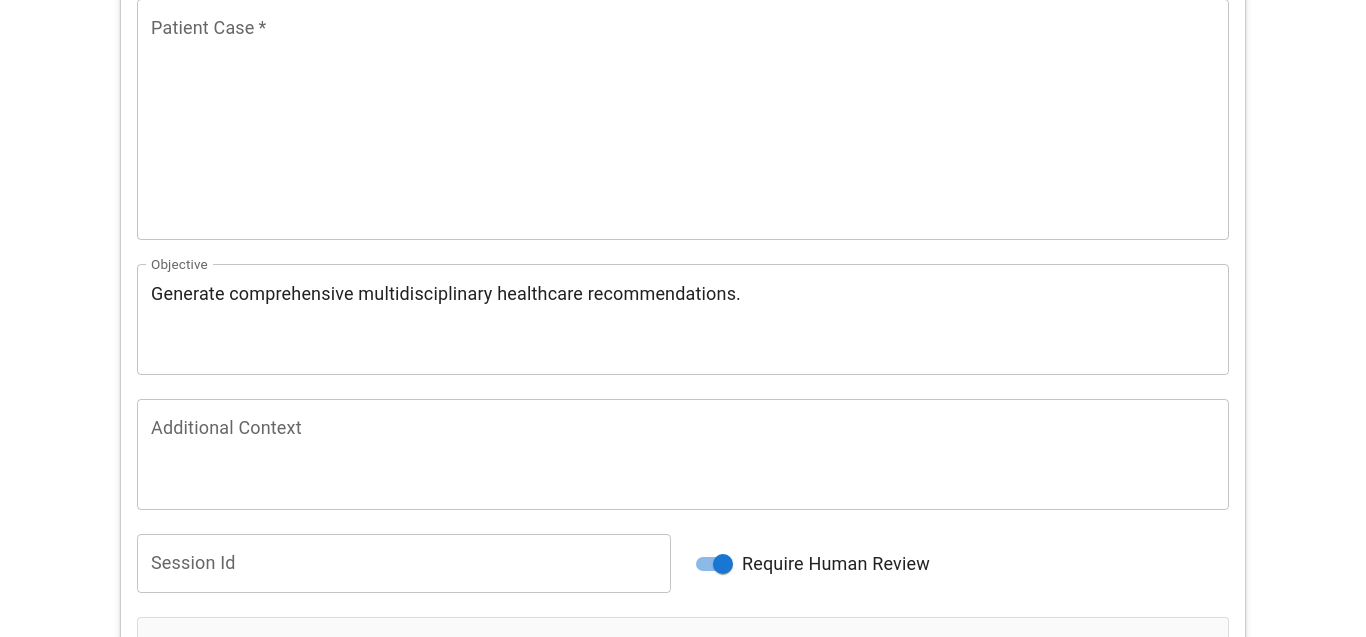
PlatformAnalysisForm › updates request summary
The width and height of the screenshot is (1366, 637).
In the text box labelled "Patient Case *": (683, 120) [151,16,1215,224], type "ABCDE"
(page scrolled)
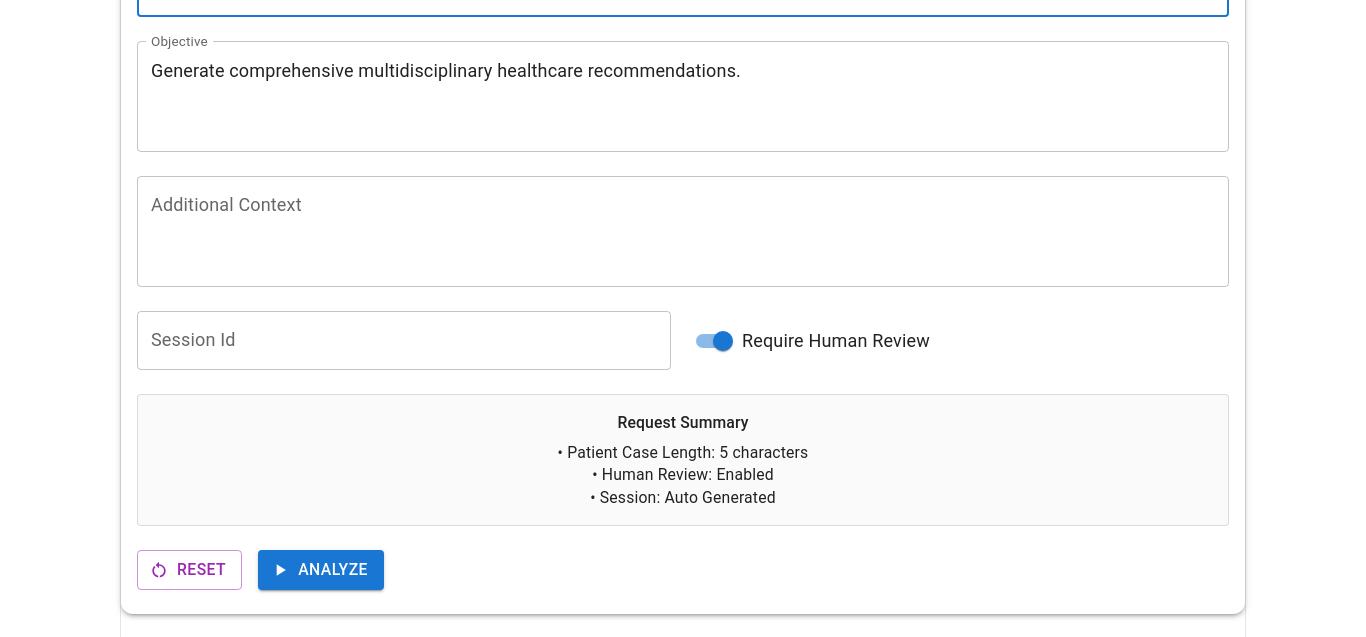
Now the text "• Patient Case Length: 5 characters" is shown, box [558,442,808,462]
